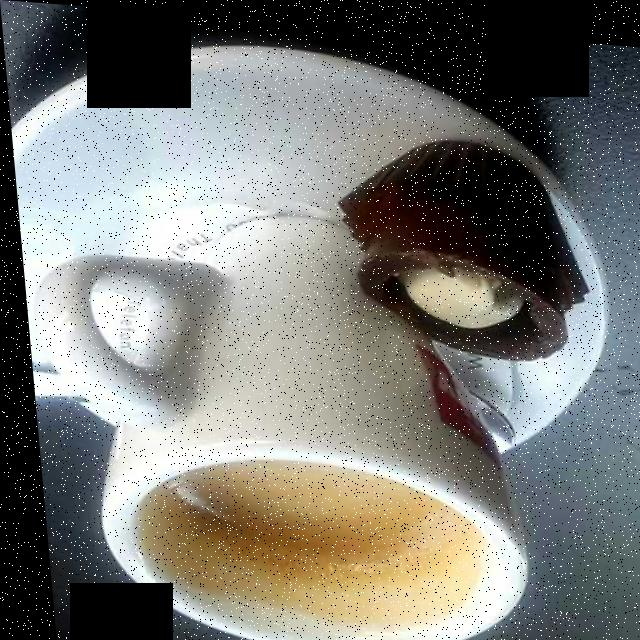dark-chocolate: (344, 161, 571, 342)
espresso-with-caffeine: (142, 459, 467, 628)
